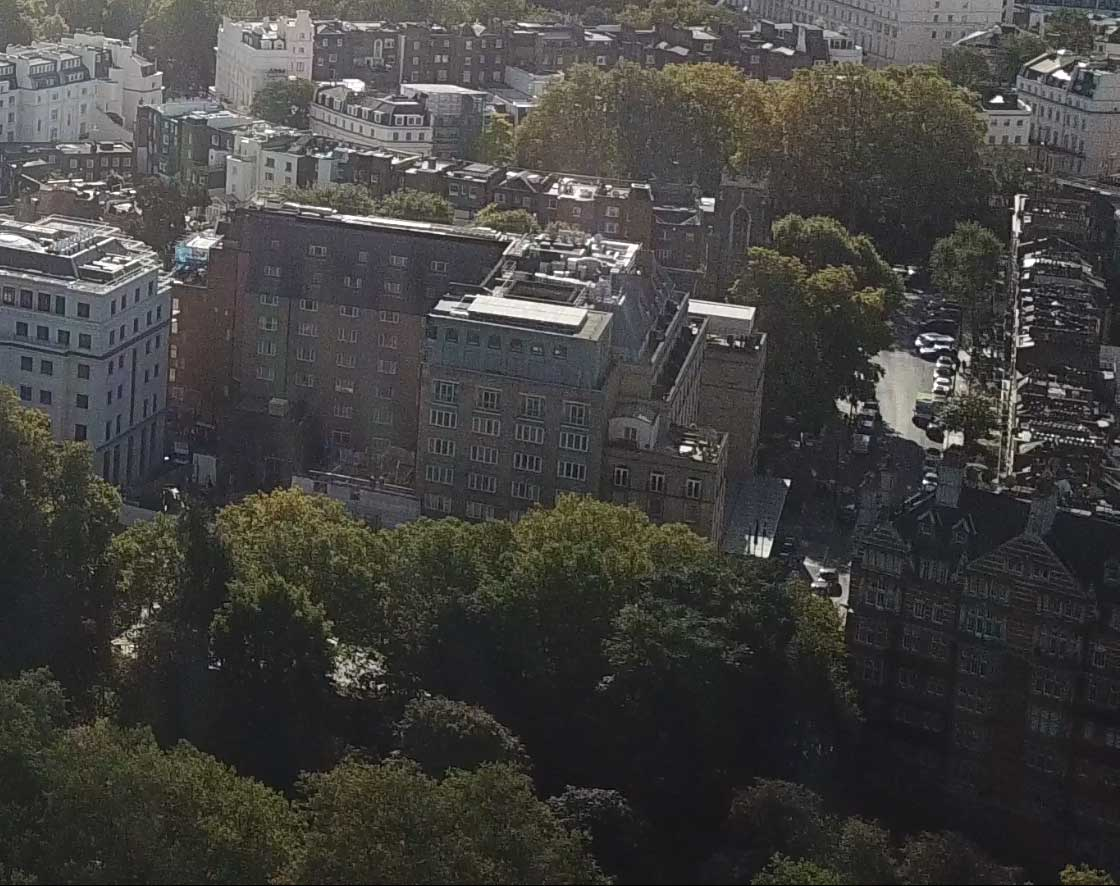building: (203, 192, 781, 552), (833, 465, 1120, 813), (4, 205, 184, 483), (199, 12, 334, 103)
